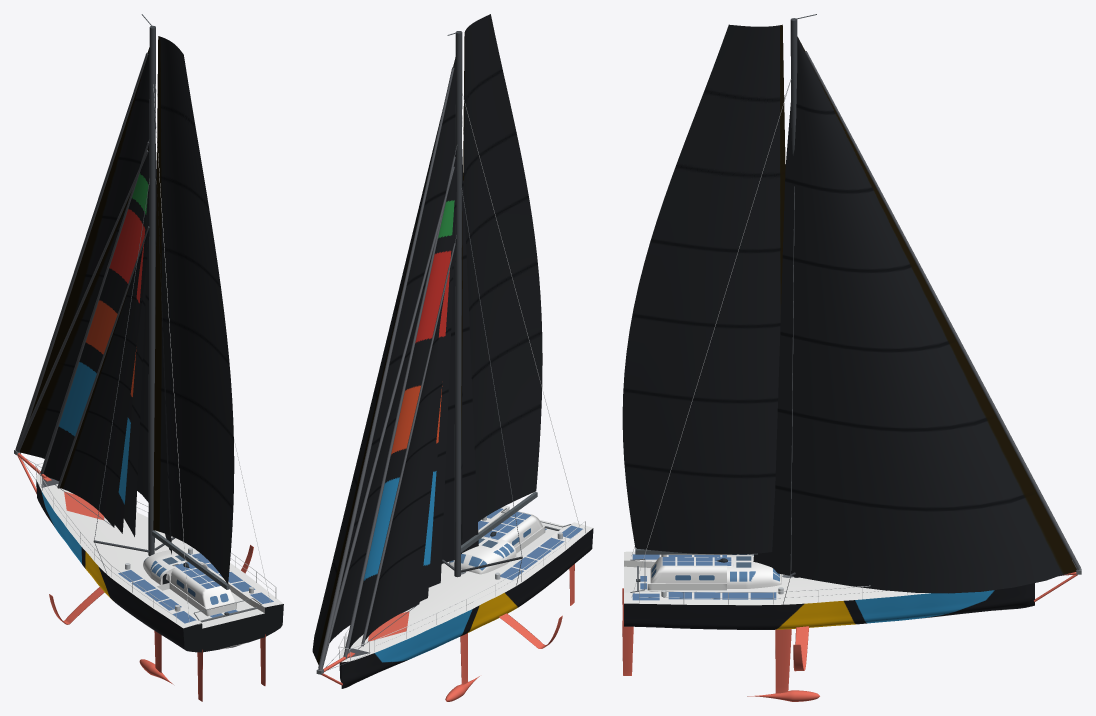
File: imoca.glb
3 renders of one model, left to right at view 1: azimuth 30°, elevation 25°; view 2: azimuth 150°, elevation 25°; view 3: azimuth 270°, elevation 25°, orthographic. The views are drawn at different scales.
Parts seen in each view (by area): view 1: Großsegel (Square-Top, 2 Reffreihen), Rumpf, Vorsegel J3 (Kutterstag, innen) · gesetzt, A3 – Masttopp-Gennaker (Bugspriet) · gesetzt, Vorsegel J2 (Vorstag), FR0 – Fractional Code 0 (Bugspriet) · gesetzt, Flügelmast (drehbar, Carbon), Cockpit-Gänge & offenes Achterdeck (abgesenkt), A3 – Masttopp-Gennaker (Bugspriet), Kajüte Aufbau achtern (kantig, Fase, schräge Rückwand), Vorsegel J2 (Vorstag) · eingerollt, FR0 – Fractional Code 0 (Bugspriet) (+7 smaller); view 2: Großsegel (Square-Top, 2 Reffreihen), A3 – Masttopp-Gennaker (Bugspriet) · gesetzt, Rumpf, Vorsegel J3 (Kutterstag, innen) · gesetzt, Vorsegel J2 (Vorstag), FR0 – Fractional Code 0 (Bugspriet) · gesetzt, Flügelmast (drehbar, Carbon), A3 – Masttopp-Gennaker (Bugspriet), Vorsegel J2 (Vorstag) · eingerollt, FR0 – Fractional Code 0 (Bugspriet), Vorsegel J3 (Kutterstag, innen), Kajüte Haube vorn (rund, mit Türen) (+7 smaller); view 3: A3 – Masttopp-Gennaker (Bugspriet) · gesetzt, Großsegel (Square-Top, 2 Reffreihen), Rumpf, A3 – Masttopp-Gennaker (Bugspriet), Kajüte Aufbau achtern (kantig, Fase, schräge Rückwand), Cockpit-Gänge & offenes Achterdeck (abgesenkt), Kajüte Haube vorn (rund, mit Türen), Schwenkkiel-Flosse (Stahl/Carbon), Flügelmast (drehbar, Carbon), Solarmodul Seitendeck Stb..
Boxes of the visible parts, left/top/right/bottom form: Großsegel (Square-Top, 2 Reffreihen): left=152, top=36, right=234, bottom=589; Rumpf: left=36, top=474, right=283, bottom=652; Vorsegel J3 (Kutterstag, innen) · gesetzt: left=60, top=228, right=149, bottom=527; A3 – Masttopp-Gennaker (Bugspriet) · gesetzt: left=29, top=47, right=171, bottom=554; Vorsegel J2 (Vorstag): left=43, top=141, right=149, bottom=533; FR0 – Fractional Code 0 (Bugspriet) · gesetzt: left=19, top=148, right=149, bottom=536; Flügelmast (drehbar, Carbon): left=148, top=25, right=155, bottom=555; Cockpit-Gänge & offenes Achterdeck (abgesenkt): left=157, top=573, right=264, bottom=628; A3 – Masttopp-Gennaker (Bugspriet): left=15, top=52, right=148, bottom=450; Kajüte Aufbau achtern (kantig, Fase, schräge Rückwand): left=166, top=561, right=234, bottom=608; Vorsegel J2 (Vorstag) · eingerollt: left=40, top=141, right=149, bottom=475; FR0 – Fractional Code 0 (Bugspriet): left=16, top=150, right=148, bottom=451; Großsegel (Square-Top, 2 Reffreihen): left=461, top=14, right=542, bottom=552; A3 – Masttopp-Gennaker (Bugspriet) · gesetzt: left=312, top=52, right=478, bottom=664; Rumpf: left=339, top=505, right=593, bottom=688; Vorsegel J3 (Kutterstag, innen) · gesetzt: left=365, top=238, right=456, bottom=639; Vorsegel J2 (Vorstag): left=348, top=147, right=456, bottom=649; FR0 – Fractional Code 0 (Bugspriet) · gesetzt: left=329, top=171, right=456, bottom=642; Flügelmast (drehbar, Carbon): left=454, top=31, right=462, bottom=577; A3 – Masttopp-Gennaker (Bugspriet): left=318, top=67, right=454, bottom=669; Vorsegel J2 (Vorstag) · eingerollt: left=343, top=156, right=455, bottom=659; FR0 – Fractional Code 0 (Bugspriet): left=319, top=167, right=454, bottom=670; Vorsegel J3 (Kutterstag, innen): left=361, top=243, right=455, bottom=646; Kajüte Haube vorn (rund, mit Türen): left=449, top=536, right=516, bottom=574; A3 – Masttopp-Gennaker (Bugspriet) · gesetzt: left=753, top=36, right=1076, bottom=593; Großsegel (Square-Top, 2 Reffreihen): left=622, top=24, right=785, bottom=554; Rumpf: left=624, top=551, right=1034, bottom=629; A3 – Masttopp-Gennaker (Bugspriet): left=805, top=51, right=1080, bottom=569; Kajüte Aufbau achtern (kantig, Fase, schräge Rückwand): left=650, top=557, right=733, bottom=583; Cockpit-Gänge & offenes Achterdeck (abgesenkt): left=624, top=560, right=726, bottom=592; Kajüte Haube vorn (rund, mit Türen): left=727, top=554, right=781, bottom=588; Schwenkkiel-Flosse (Stahl/Carbon): left=775, top=629, right=791, bottom=693; Flügelmast (drehbar, Carbon): left=790, top=18, right=798, bottom=577; Solarmodul Seitendeck Stb.: left=668, top=592, right=776, bottom=599.
Size of the model in its own units: 10.91 by 33.72 by 20.43.
28 materials, 7 textured.
